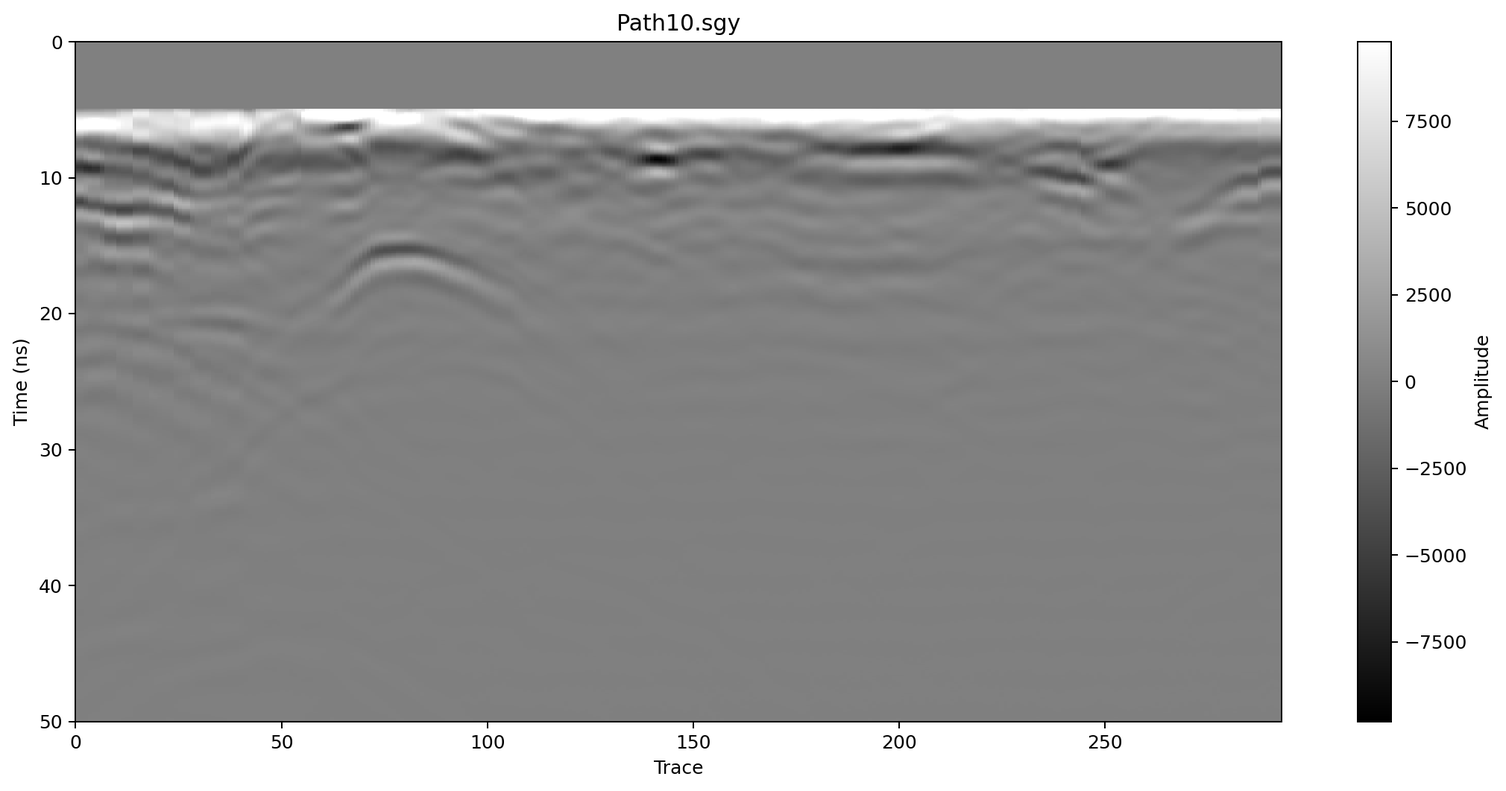utility: (300, 234, 528, 333)
